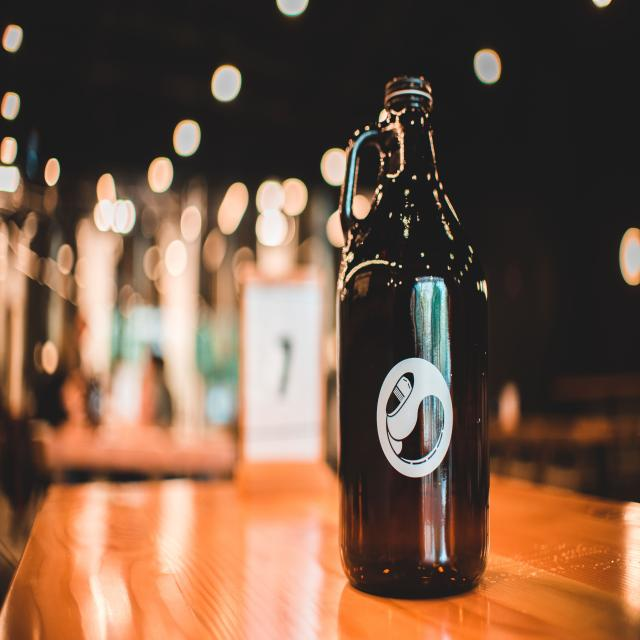Bottle: (337, 77, 489, 596)
